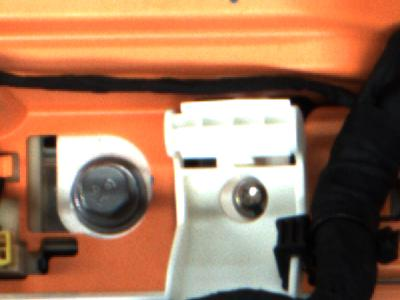nut_b: (66, 156, 152, 231)
